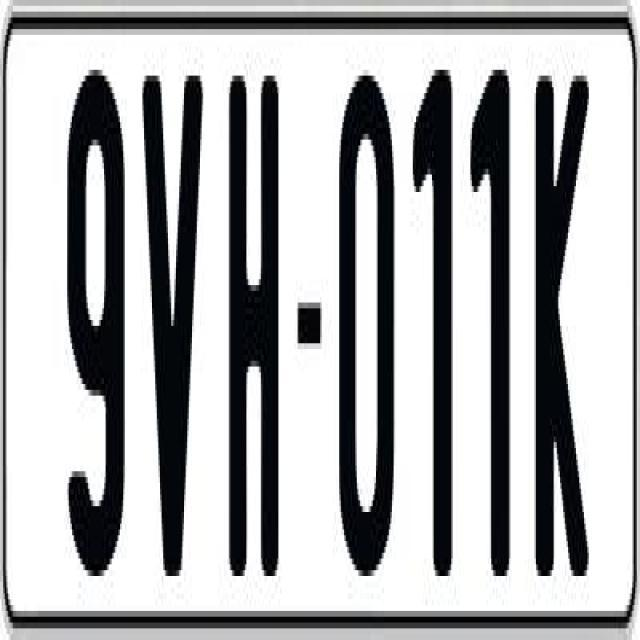0: (339, 70, 393, 600)
1: (466, 52, 512, 576), (410, 53, 453, 565)
9: (64, 64, 128, 576)
H: (224, 76, 283, 600)
K: (535, 64, 594, 576)
V: (141, 64, 207, 594)
